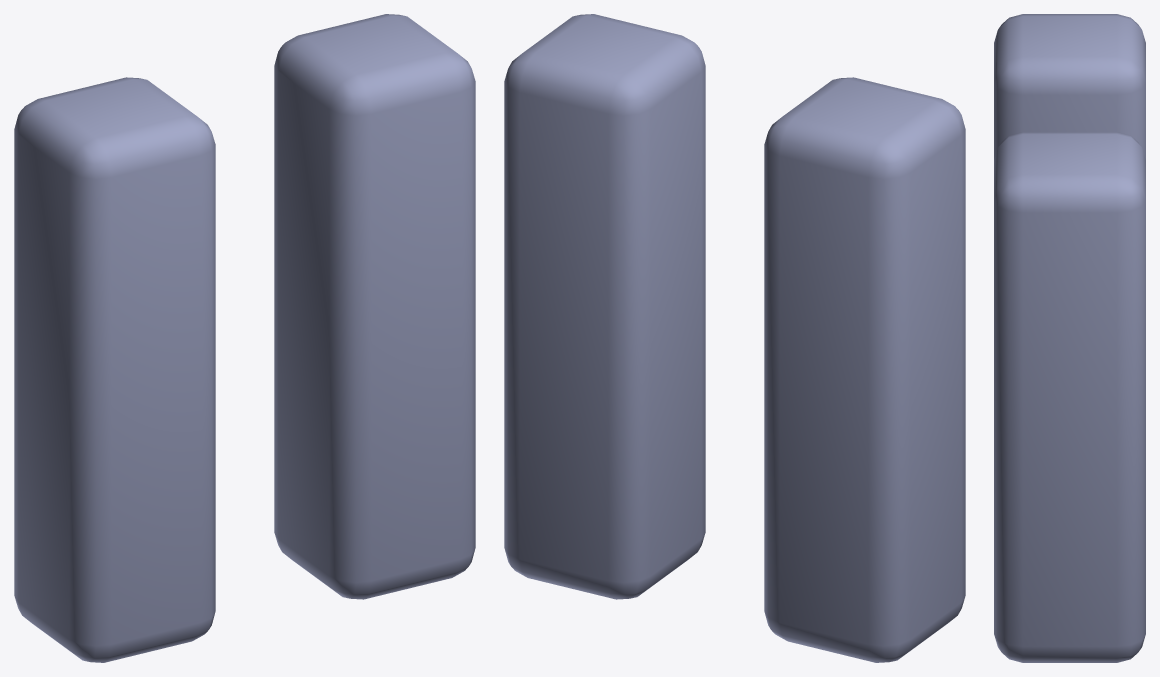
Rendered from Pause_2.fbx.
3 views of the same model, side by side, from view 1: azimuth 30°, elevation 25°; view 2: azimuth 150°, elevation 25°; view 3: azimuth 270°, elevation 25° (orthographic). The views are drawn at different scales.
Parts seen in each view (by area): view 1: Pause_2; view 2: Pause_2; view 3: Pause_2.
Part boxes in pixels (<box>): Pause_2: <box>14,14,475,662</box>; Pause_2: <box>504,14,965,662</box>; Pause_2: <box>994,14,1145,662</box>.
Bounding box in the file's own units: 0.1675 × 0.2082 × 0.059.
